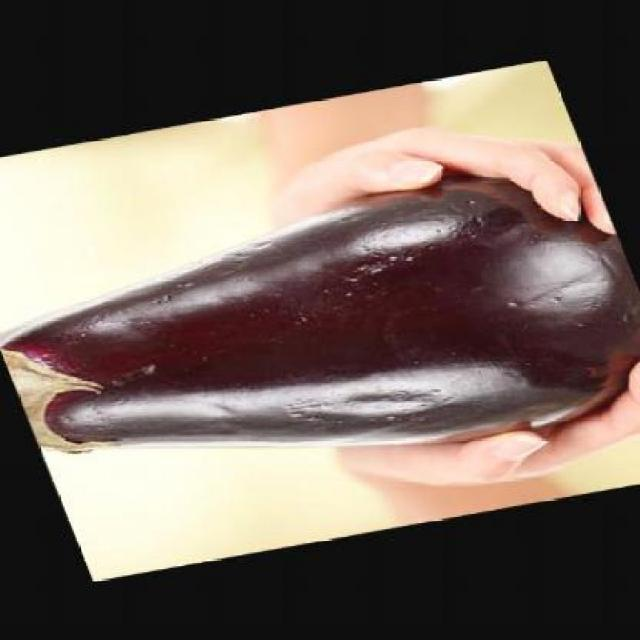eggplant: (0, 151, 638, 516)
